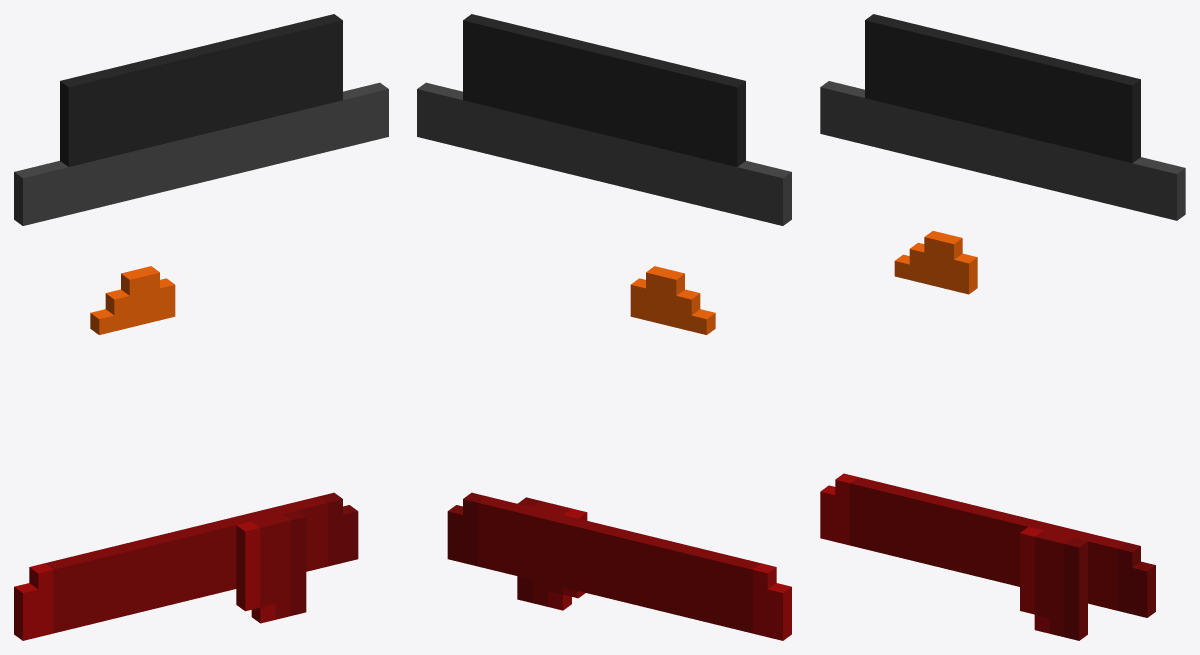
Rendered from fox2-3.obj.
The picture shows the model from 3 angles, left to right: view 1: azimuth 30°, elevation 25°; view 2: azimuth 150°, elevation 25°; view 3: azimuth 330°, elevation 25°; orthographic projection. The views are drawn at different scales.
Size of the model in its own units: 2.4 by 3.6 by 0.2.
1 material, 1 textured.
